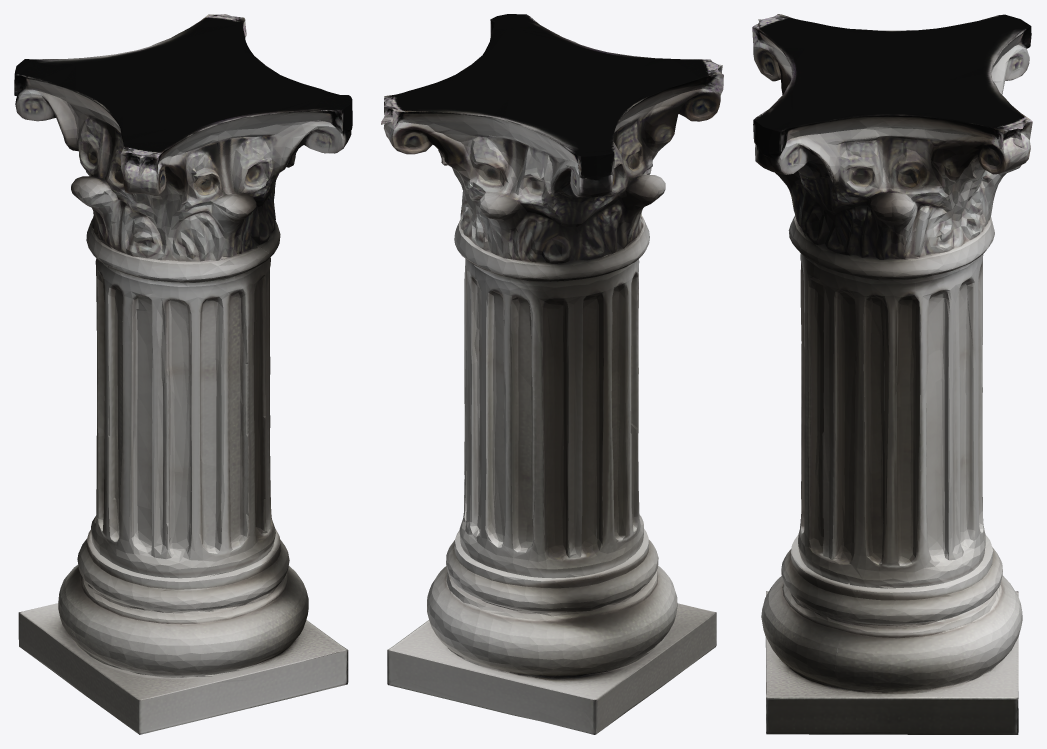
The model's file is column_short.glb.
The picture shows the model from 3 angles, left to right: view 1: azimuth 30°, elevation 25°; view 2: azimuth 150°, elevation 25°; view 3: azimuth 270°, elevation 25°; orthographic projection. The views are drawn at different scales.
Parts seen in each view (by area): view 1: world; view 2: world; view 3: world.
Part boxes in pixels (<box>): world: <box>14,14,352,734</box>; world: <box>381,14,723,734</box>; world: <box>752,14,1032,734</box>.
Bounding box in the file's own units: 0.4188 × 0.9998 × 0.4172.
1 material, 1 textured.
